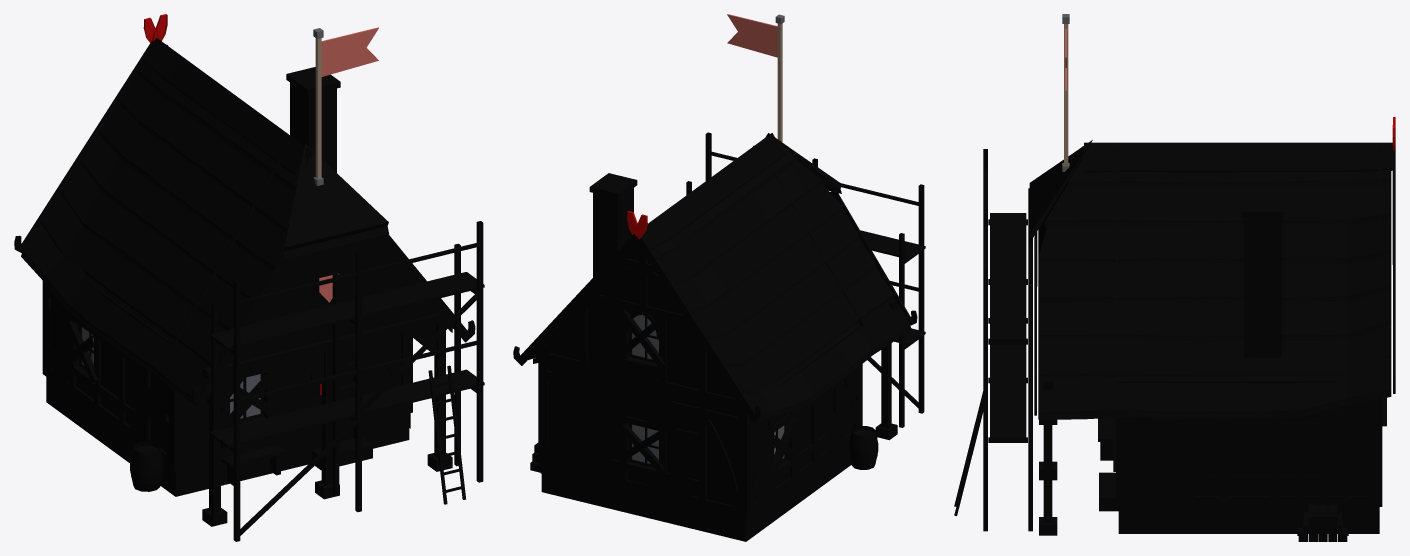
File: wohnhaus_elb_s1_g4.glb
3 views of the same model, side by side, from view 1: azimuth 30°, elevation 25°; view 2: azimuth 150°, elevation 25°; view 3: azimuth 270°, elevation 25° (orthographic). The views are drawn at different scales.
Visible parts, largest first — view 1: Dach, Haus, Geruest, Fahne, Leerstand, Scheiben; view 2: Haus, Dach, Geruest, Leerstand, Fahne, Scheiben; view 3: Dach, Haus, Geruest, Fahne.
Part boxes in pixels (left/top/right/bottom): Dach: left=14, top=14, right=475, bottom=406; Haus: left=42, top=44, right=452, bottom=526; Geruest: left=210, top=221, right=484, bottom=541; Fahne: left=313, top=27, right=378, bottom=185; Leerstand: left=65, top=321, right=366, bottom=432; Scheiben: left=82, top=327, right=260, bottom=418; Haus: left=530, top=145, right=897, bottom=541; Dach: left=513, top=133, right=917, bottom=421; Geruest: left=686, top=132, right=925, bottom=427; Leerstand: left=618, top=309, right=798, bottom=473; Fahne: left=727, top=14, right=784, bottom=142; Scheiben: left=632, top=314, right=784, bottom=463; Dach: left=1029, top=117, right=1395, bottom=419; Haus: left=1039, top=148, right=1382, bottom=541; Geruest: left=954, top=149, right=1032, bottom=531; Fahne: left=1062, top=14, right=1069, bottom=171.
Size of the model in its own units: 6.29 by 9.36 by 8.12.
